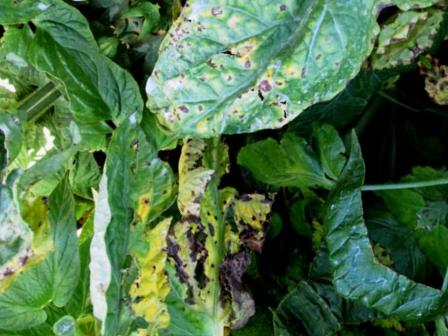Tomato Early blight leaf: (102, 0, 398, 196)
